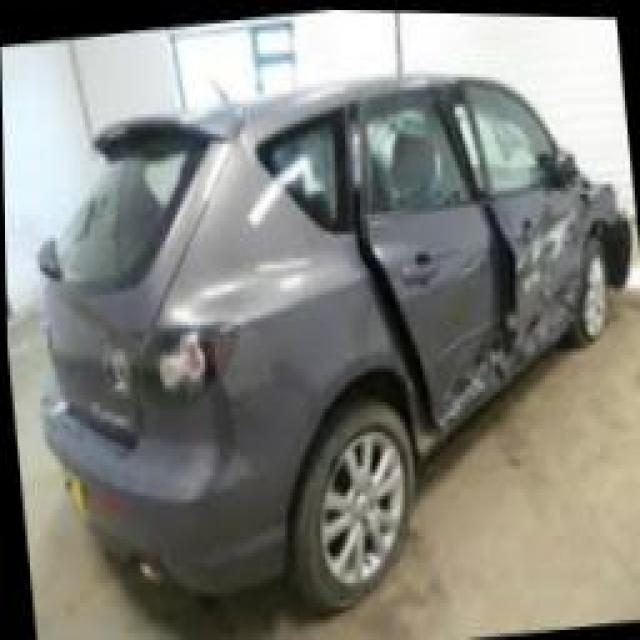Door: (438, 74, 577, 356), (396, 293, 505, 434)
